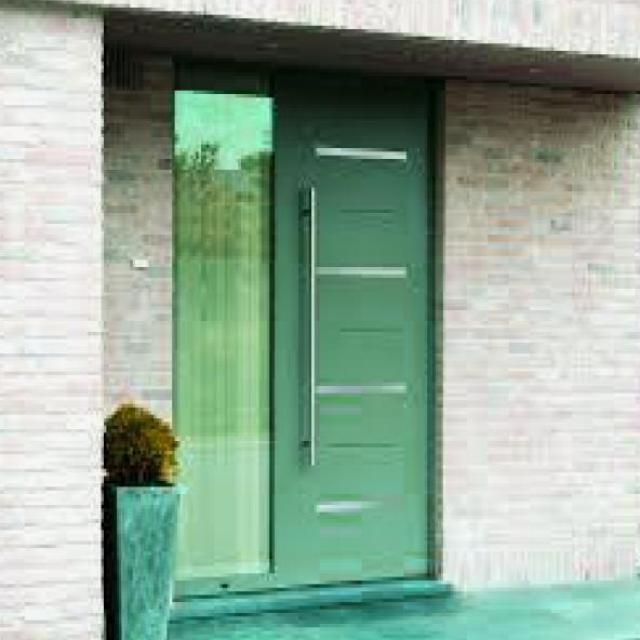door: (270, 76, 432, 585)
